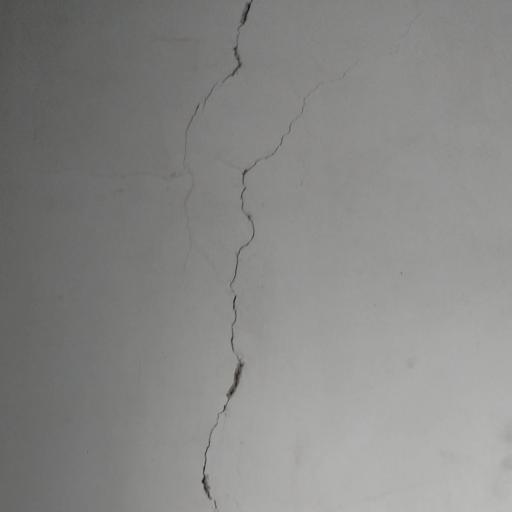major_crack: (181, 0, 333, 512)
